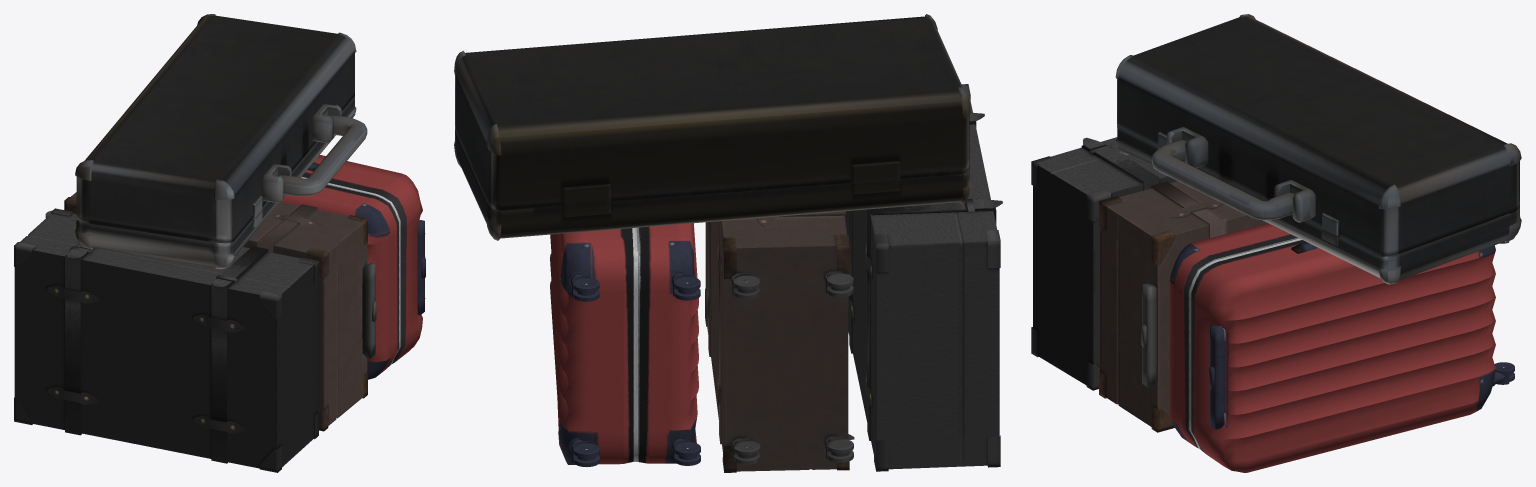
Rendered from bagset.fbx.
3 renders of one model, left to right at view 1: azimuth 30°, elevation 25°; view 2: azimuth 150°, elevation 25°; view 3: azimuth 270°, elevation 25°, orthographic. The views are drawn at different scales.
Visible parts, largest first — view 1: bagset; view 2: bagset; view 3: bagset.
Boxes of the visible parts, box(x1,y1,x2,y2) form: bagset: box(14, 14, 425, 472); bagset: box(454, 14, 1002, 472); bagset: box(1031, 14, 1521, 472).
Bounding box in the file's own units: 106 × 74.61 × 107.
